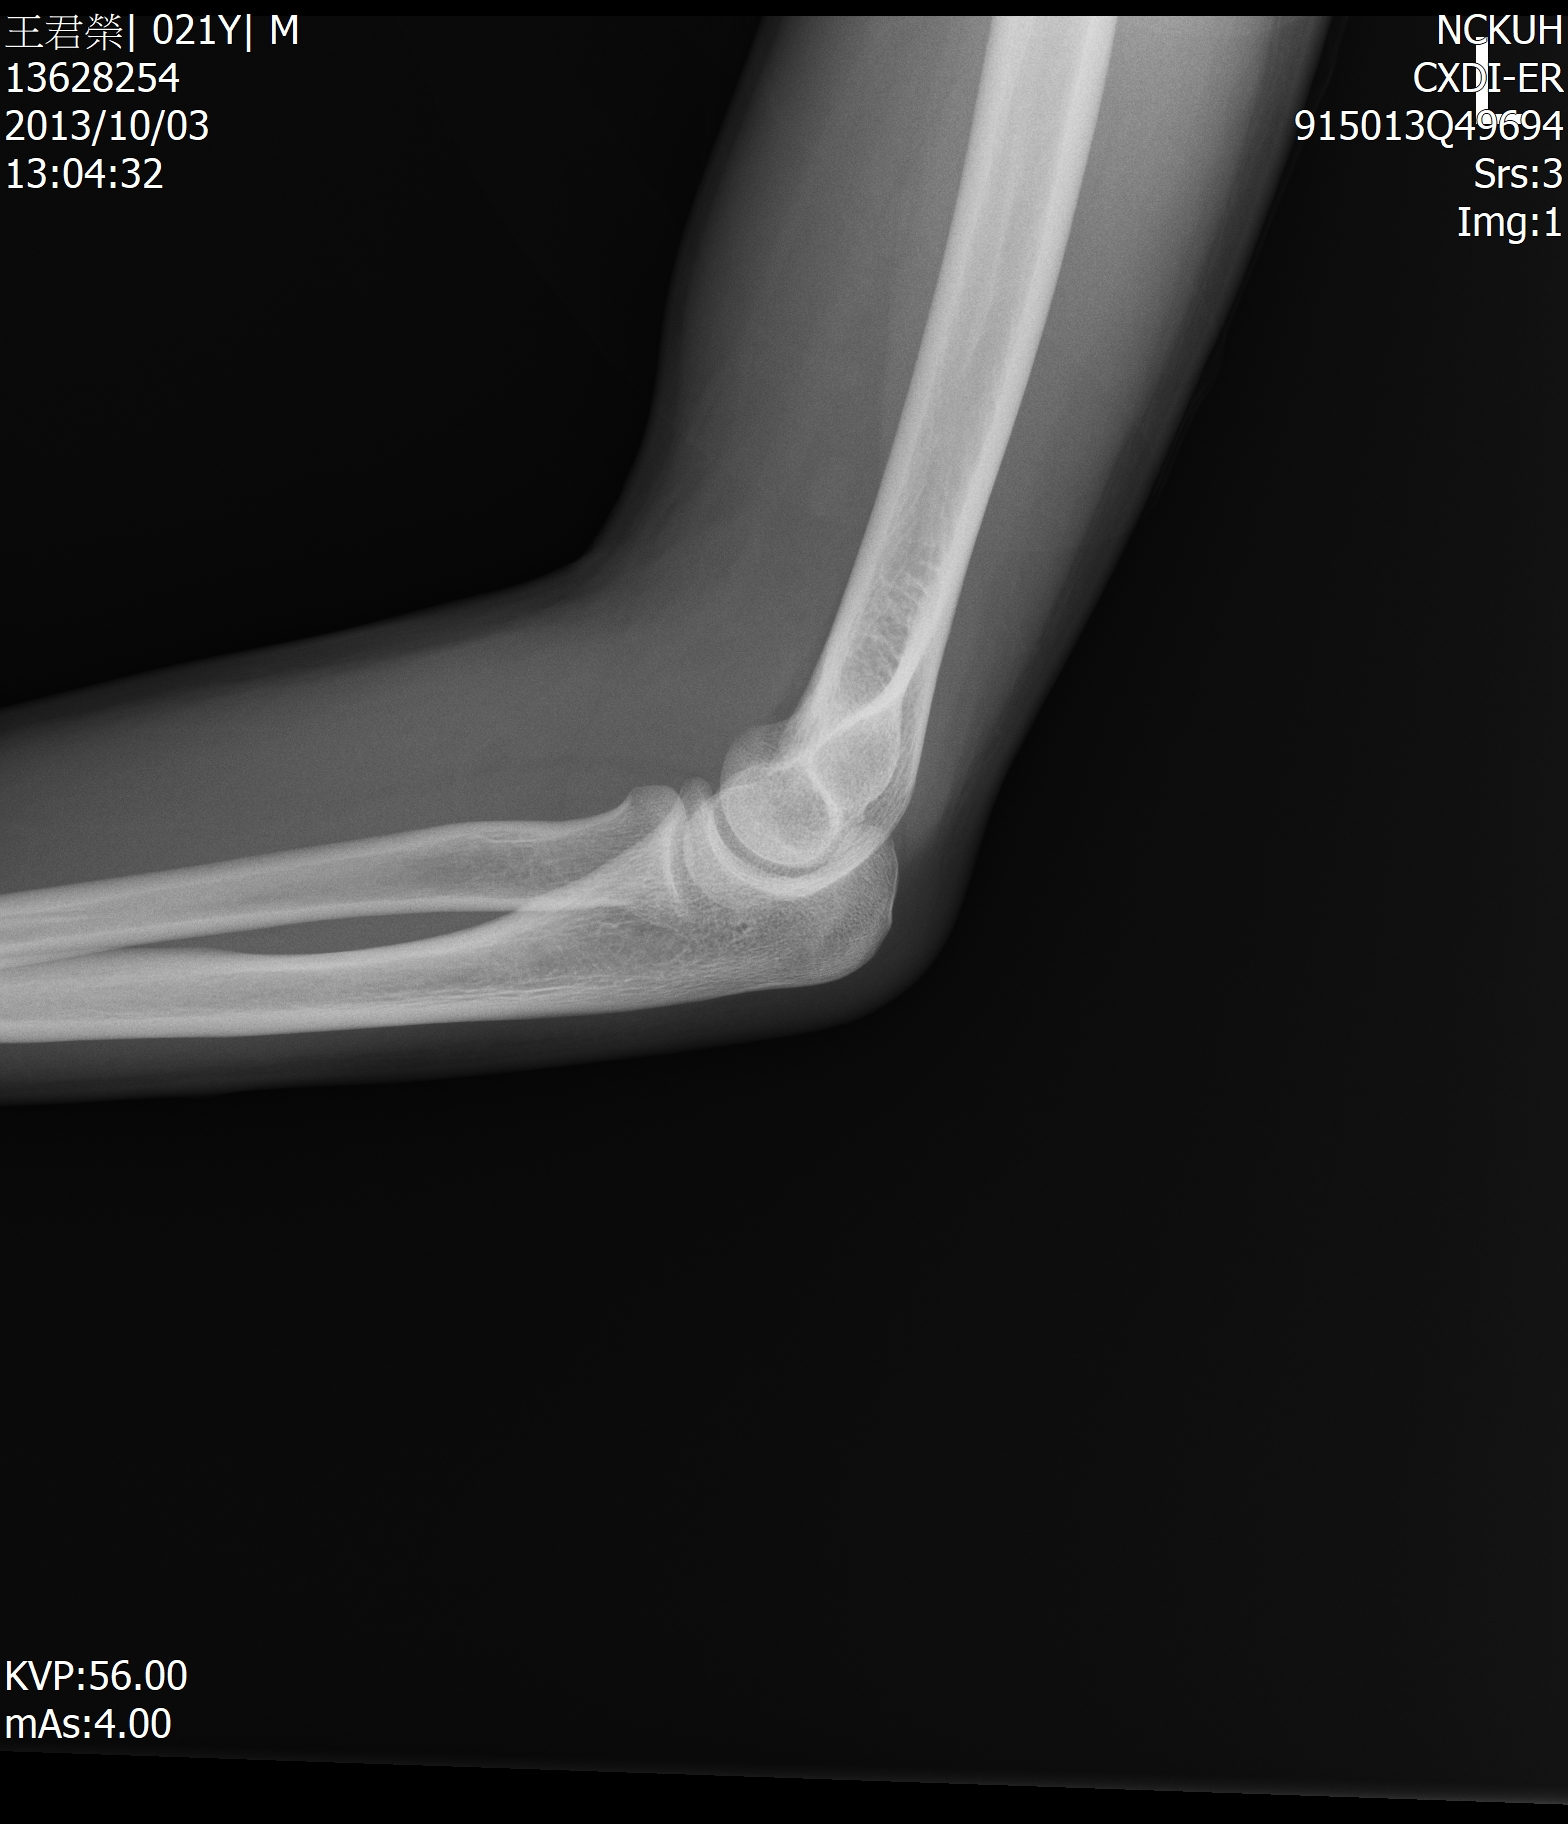Normal: (475, 530, 1064, 1165)
